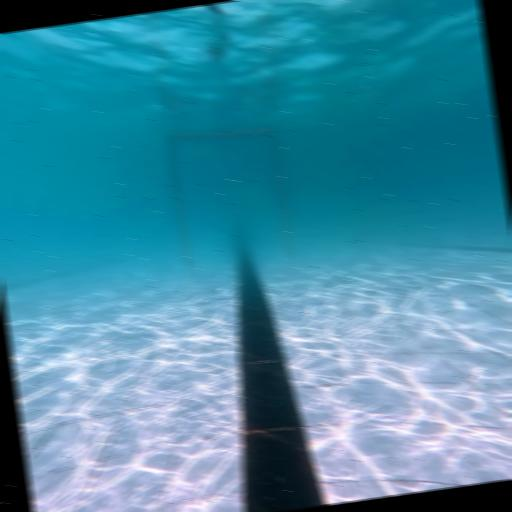gate: (166, 119, 296, 272)
